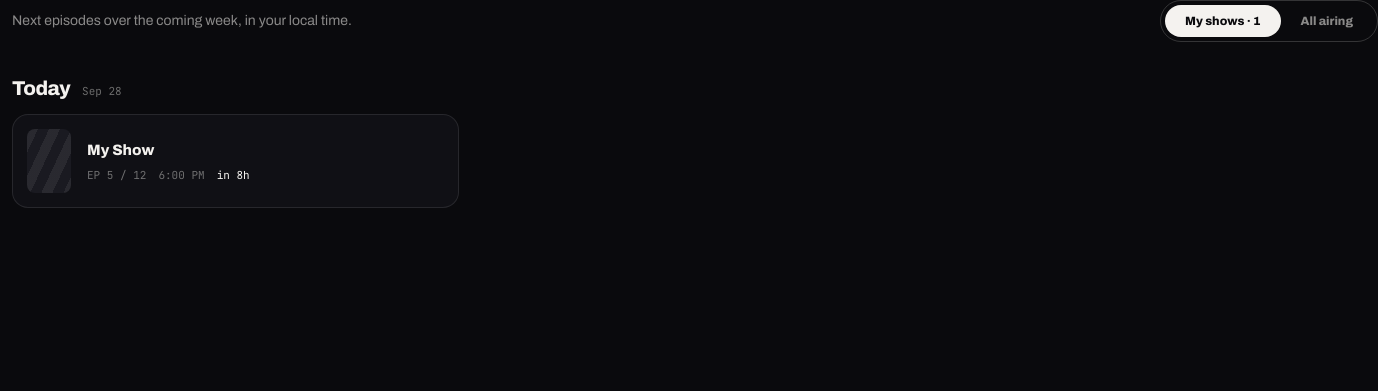
Test: AiringSchedule › shows everything airing when toggled, marking the viewer's shows
Expected: the link "My Show" is shown, [87,142,154,158]
Click the button "All airing". click: (1327, 21)
box: [1280,5,1373,37]
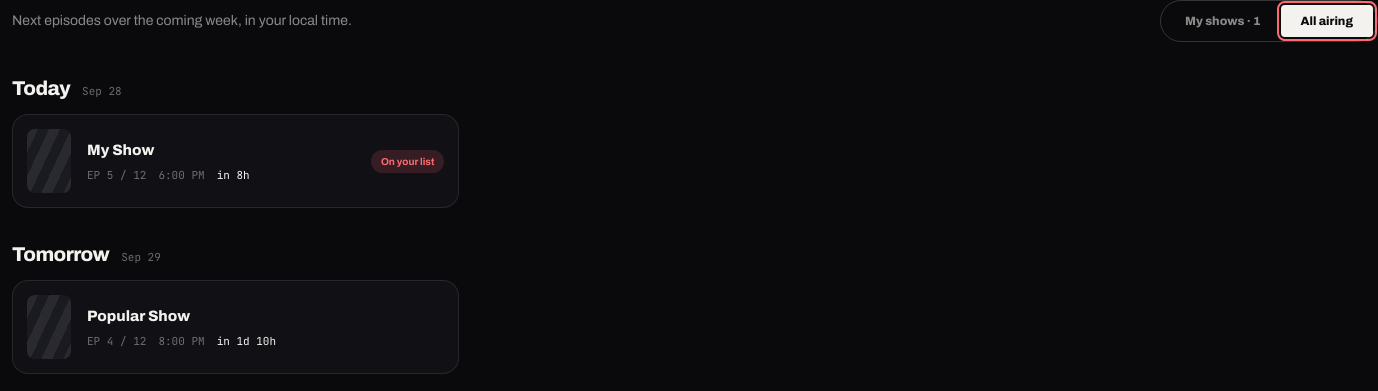
Expected: the link "Popular Show" is shown, [87,308,190,324]
Expected: the text "On your list" is shown, [371,150,444,172]
